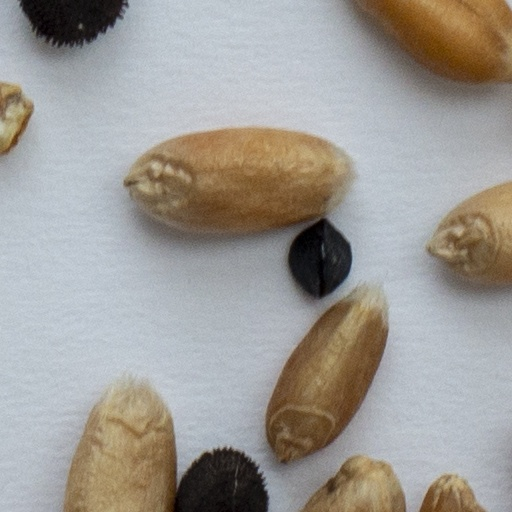Wheat-grain-damaged-poly: (0, 79, 38, 159)
